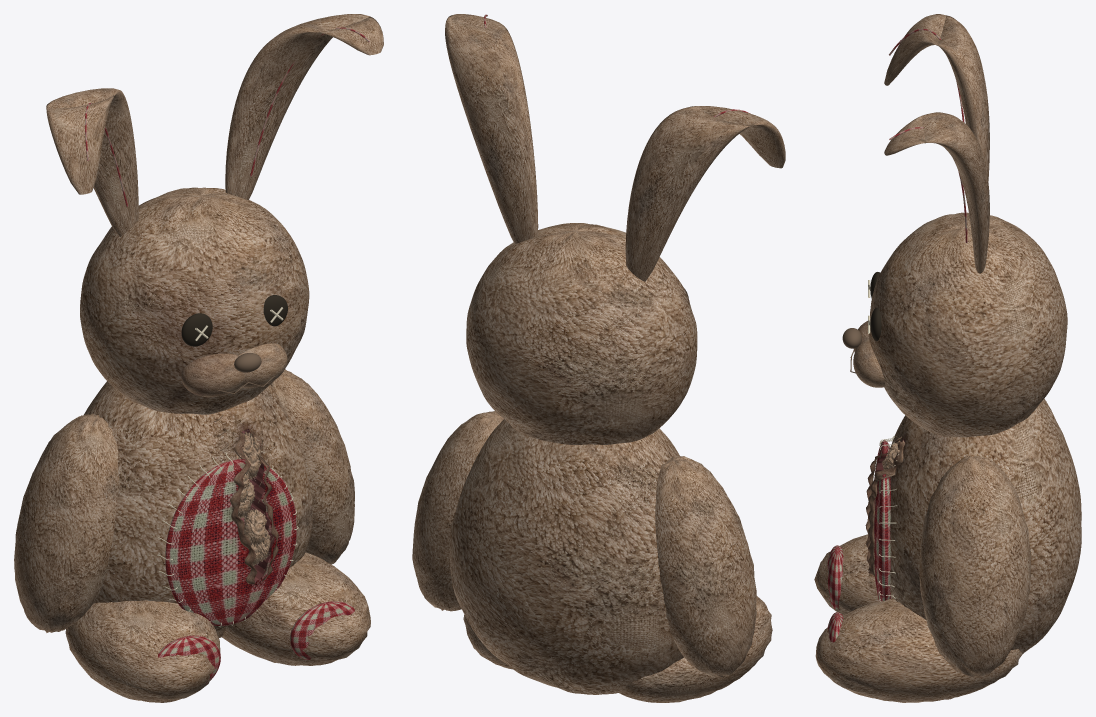
Rendered from mascot-rabbit.glb.
The picture shows the model from 3 angles, left to right: view 1: azimuth 30°, elevation 25°; view 2: azimuth 150°, elevation 25°; view 3: azimuth 270°, elevation 25°; orthographic projection. The views are drawn at different scales.
Visible parts, largest first — view 1: Tailored giant cloth mascot; view 2: Tailored giant cloth mascot; view 3: Tailored giant cloth mascot.
Part boxes in pixels (box(x1,y1,x2,y2)): Tailored giant cloth mascot: box(14, 14, 383, 702); Tailored giant cloth mascot: box(412, 14, 785, 702); Tailored giant cloth mascot: box(814, 14, 1081, 702).
Bounding box in the file's own units: 2.88 × 5.16 × 2.1.
Materials: 8 (4 with a texture image).
